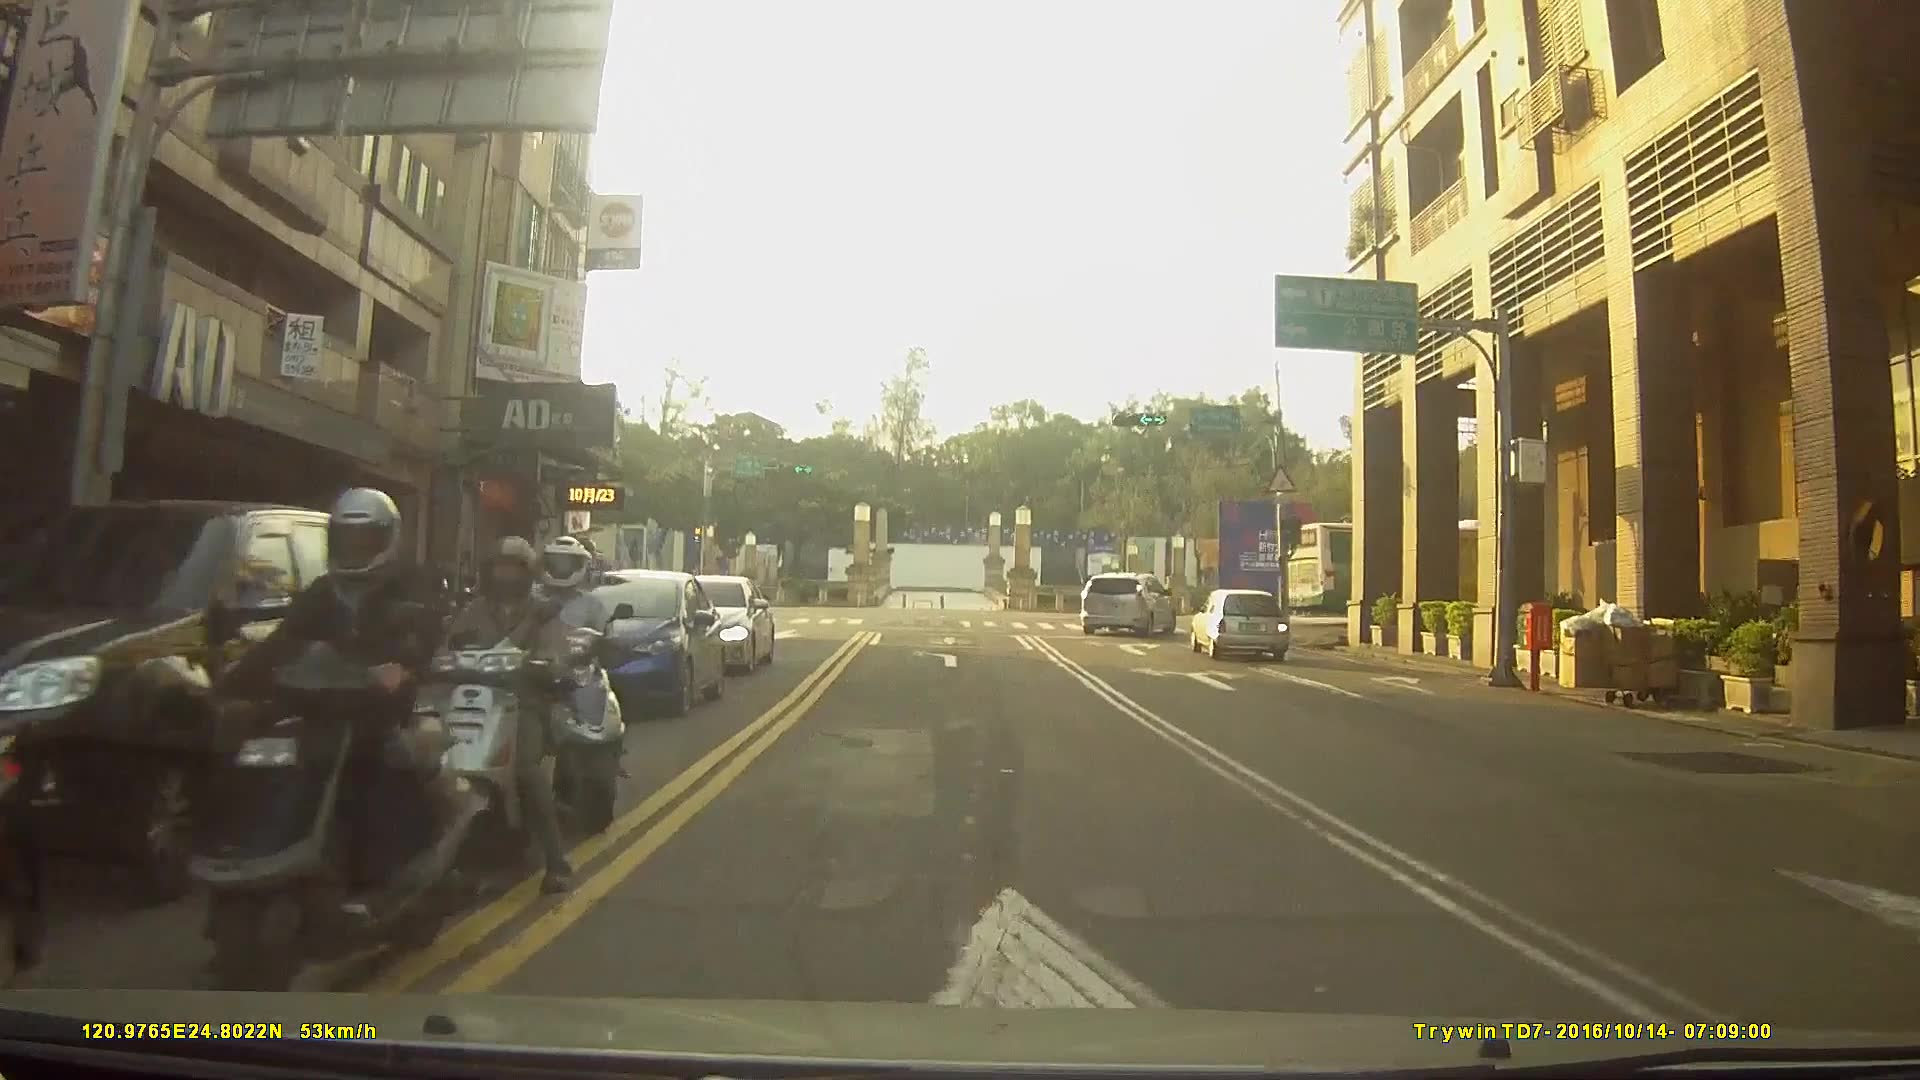rider: (179, 488, 485, 1018), (411, 535, 576, 907), (503, 536, 632, 832)
vehicle: (0, 497, 413, 902), (527, 566, 725, 717), (1280, 516, 1546, 614), (637, 571, 773, 673), (1188, 588, 1289, 662), (1081, 571, 1175, 636)
